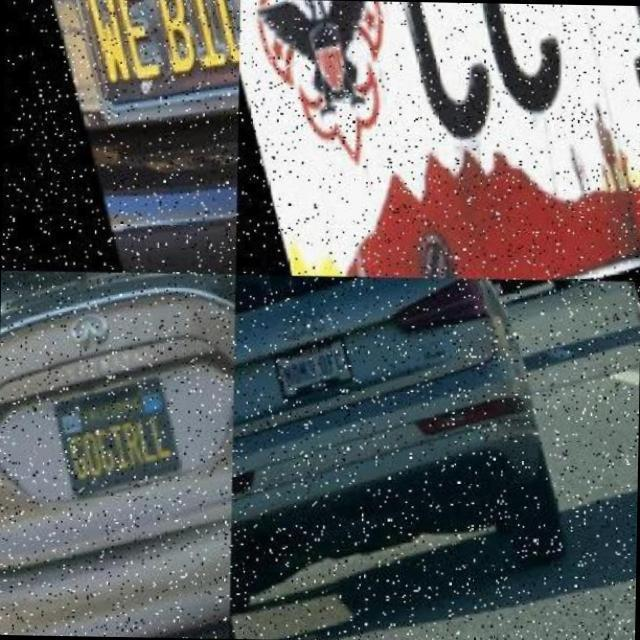license_plate: (336, 0, 640, 232), (48, 0, 240, 158), (50, 369, 182, 513), (270, 338, 353, 403)
